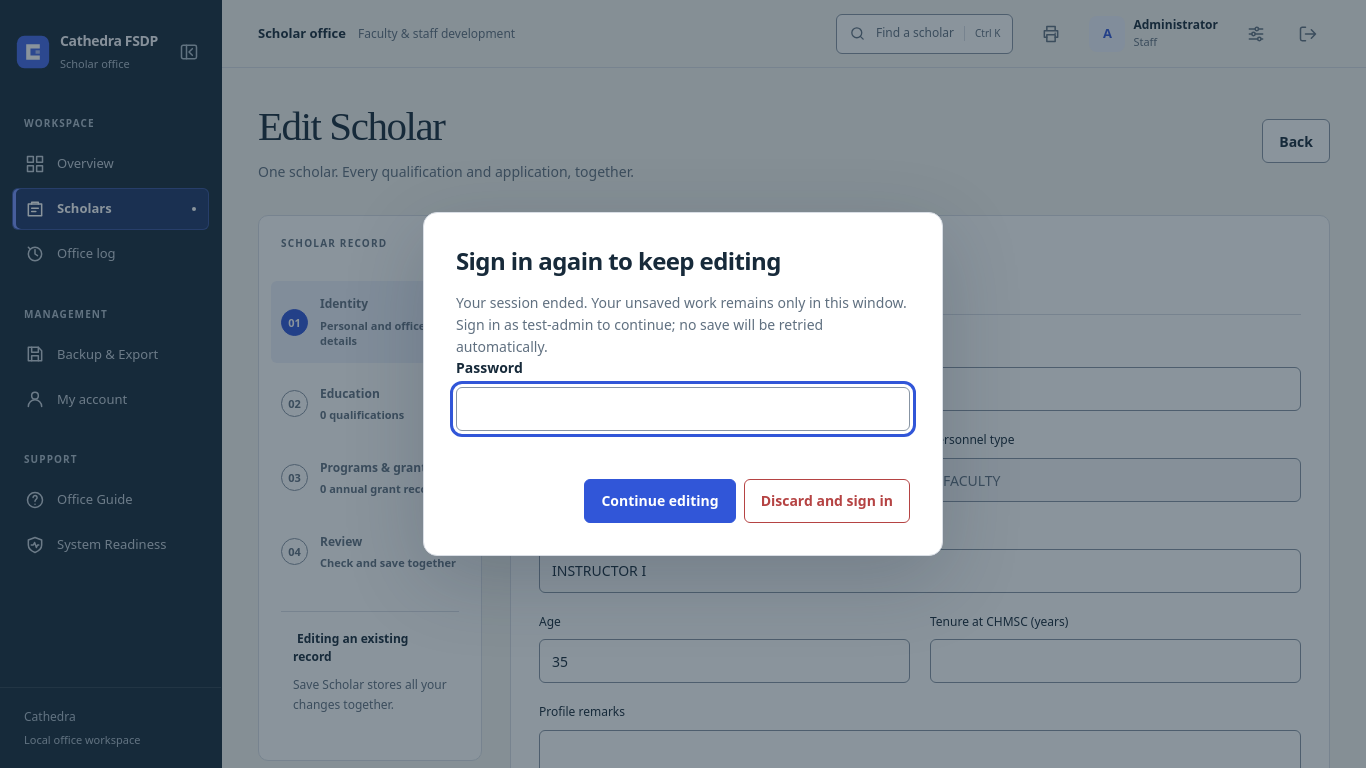
Test case: recovery refuses a different account identity
This screenshot has width=1366, height=768.
Check: the field labelled "Name *" is shown, box x1=539 y1=367 x2=1301 y2=411
Type "synthetic-password" into the password field labelled "Password".
click(683, 409); type("synthetic-password")  # box x1=456 y1=387 x2=910 y2=431
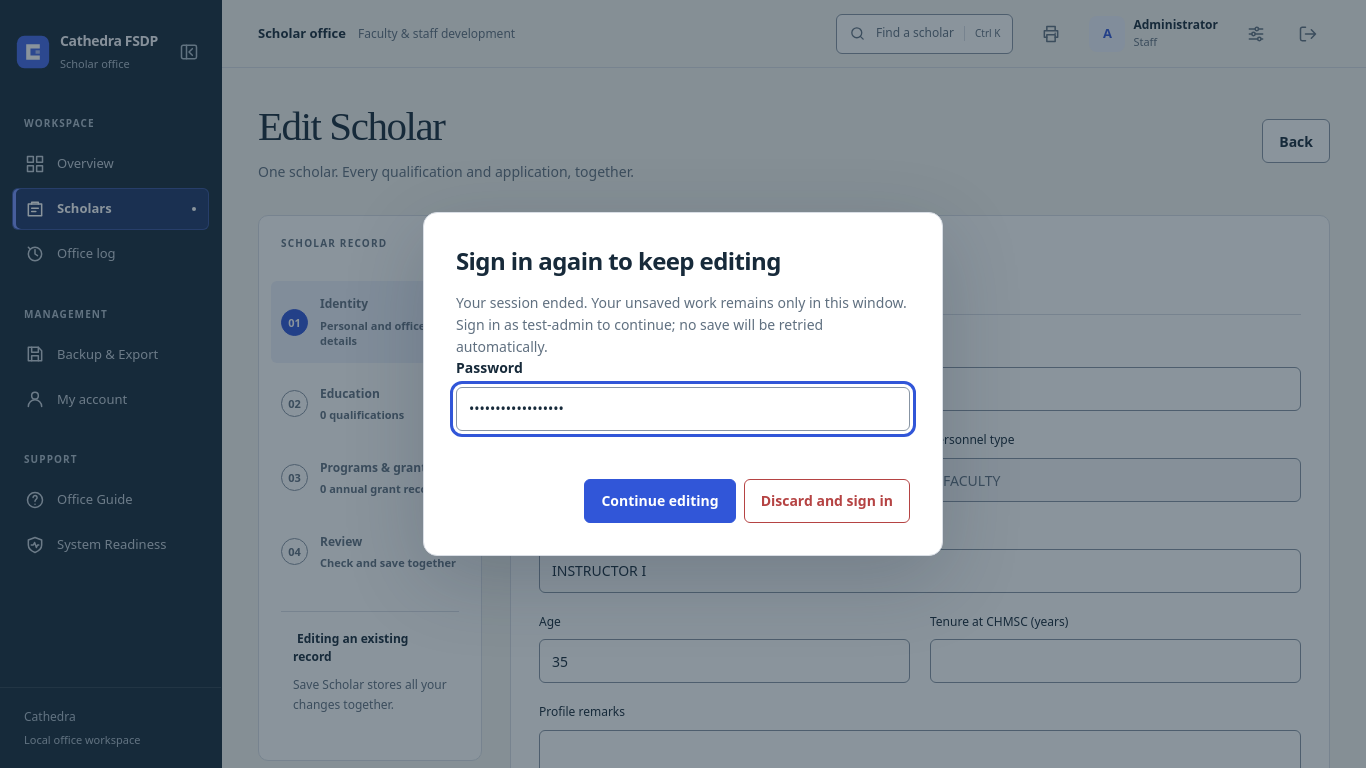
Click the button "Continue editing".
click(660, 501)  # box x1=584 y1=479 x2=736 y2=523
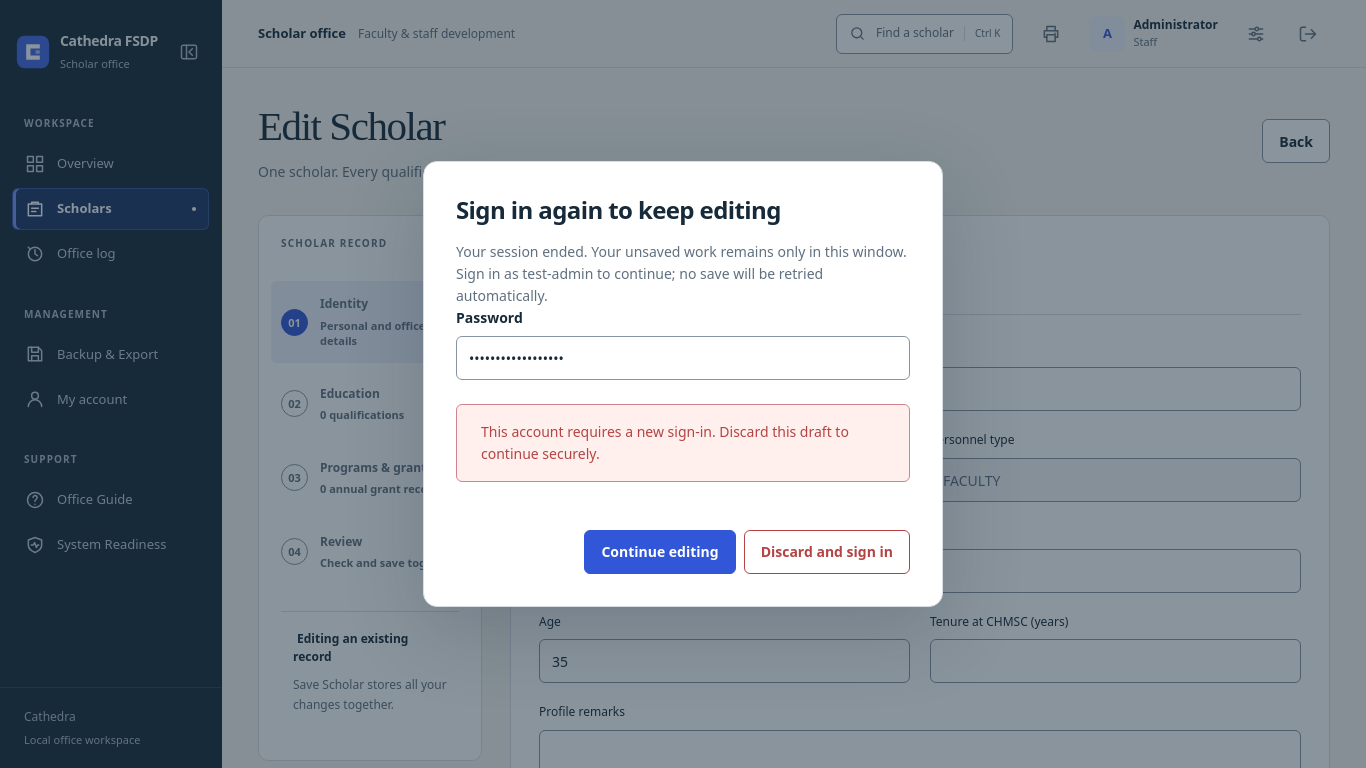
Check: the text "This account requires a new sign-in. Discard this draft to continue securely." is shown, box x1=456 y1=404 x2=910 y2=482
